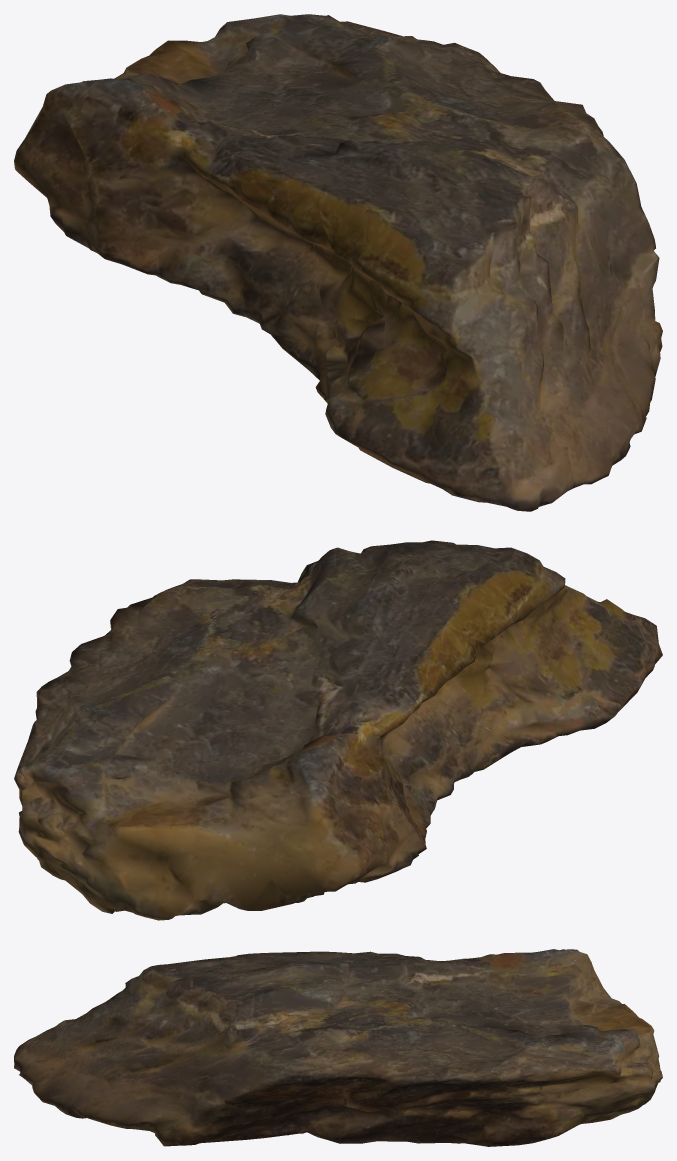
Rendered from rock.glb.
3 views of the same model, one above another, from view 1: azimuth 30°, elevation 25°; view 2: azimuth 150°, elevation 25°; view 3: azimuth 270°, elevation 25° (orthographic). The views are drawn at different scales.
Visible parts, largest first — view 1: rock_09_LOD0; view 2: rock_09_LOD0; view 3: rock_09_LOD0.
Boxes of the visible parts, x1,y1,x2,y2 form: rock_09_LOD0: (14, 14, 662, 511); rock_09_LOD0: (14, 540, 662, 920); rock_09_LOD0: (14, 949, 662, 1146).
Bounding box in the file's own units: 0.074 × 0.0328 × 0.1446.
1 material, 1 textured.
